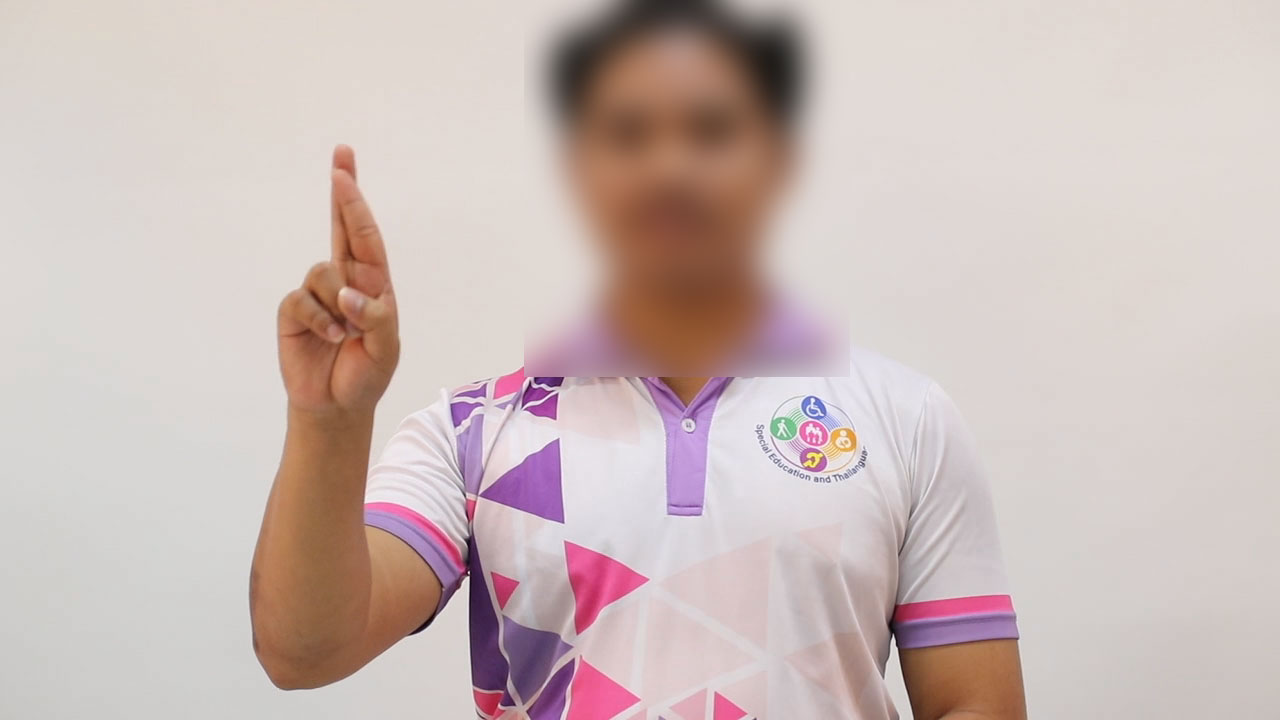rao: (252, 140, 409, 432)
